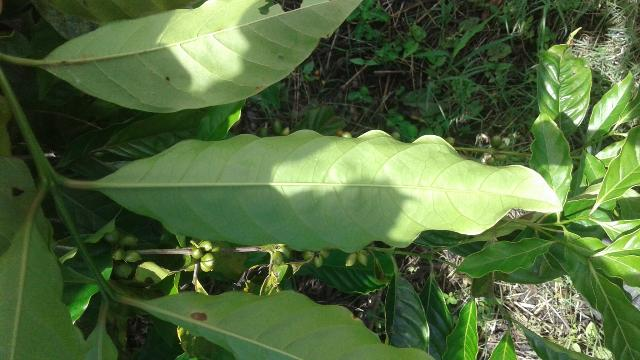healthy: (63, 127, 565, 255)
